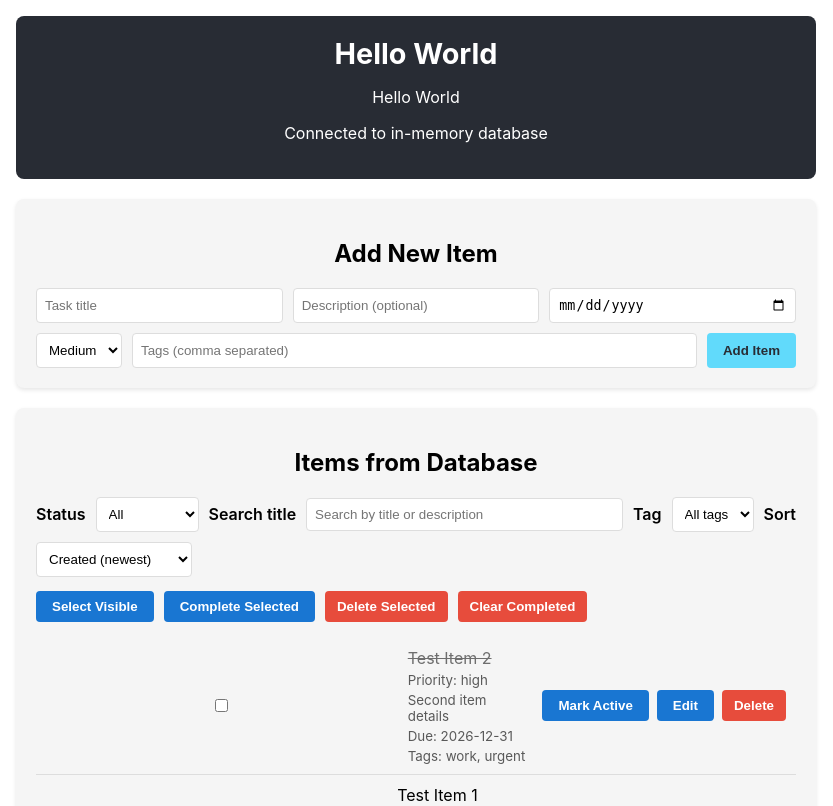
Scenario: App Component › searches tasks by title
Expected: the text "Test Item 1" is shown, [397,785,478,805]
Expected: the text "Test Item 2" is shown, [408,648,492,668]
Type "Item 1" into the field with placeholder "Search by title or description" at (465, 514), box [306,498,623,531]
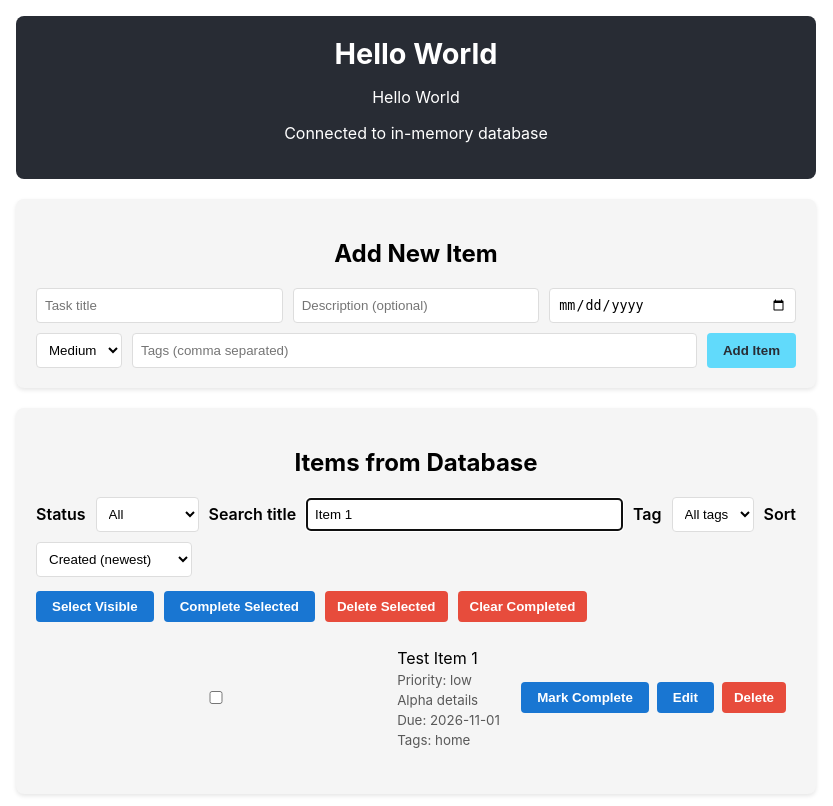
Expected: the text "Test Item 1" is shown, [397,648,478,668]
Result: the text "Test Item 2" is gone
